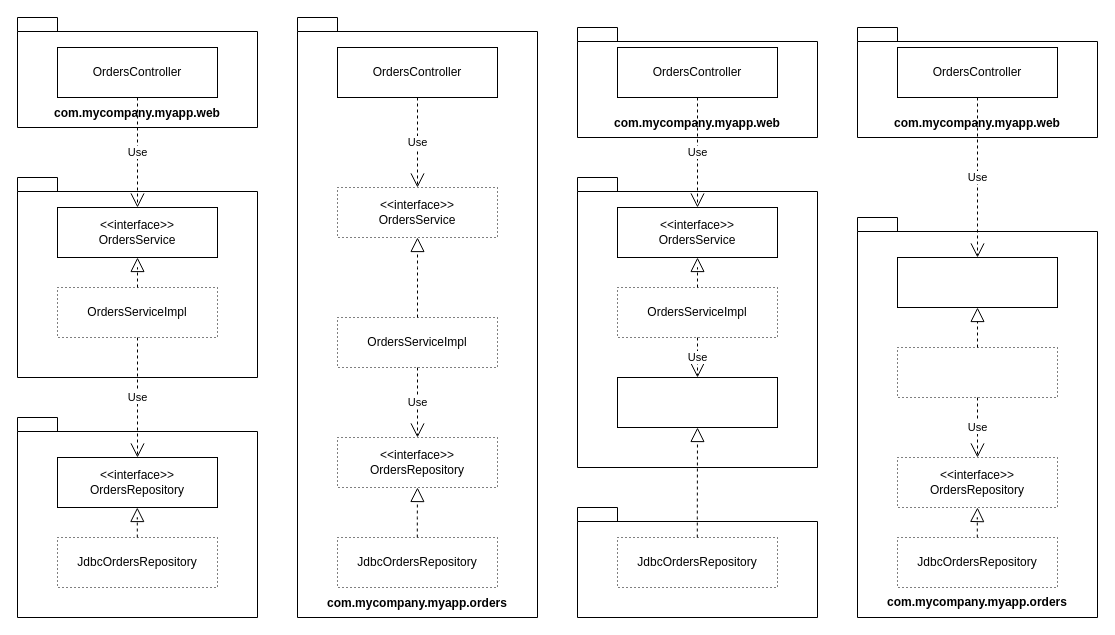
Image size: 1115x635. Some labels were removed from this diagram. The shapes that lost their labels are listed below. From the top down, each one's box as (x1, y1, x2, y2) in pixels, then its label:
(16, 176, 258, 378): com.mycompany.myapp.service
(896, 256, 1058, 308): <<interface>> OrdersComponent
(576, 176, 818, 468): com.mycompany.myapp.domain
(896, 346, 1058, 398): OrdersComponentImpl
(616, 376, 778, 428): <<interface>> Orders
(16, 416, 258, 618): com.mycompany.myapp.data
(576, 506, 818, 618): com.mycompany.myapp.database
